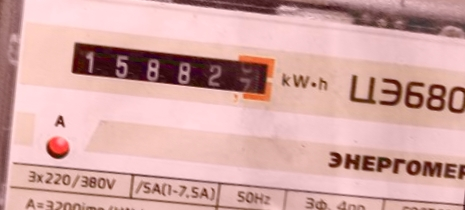1: (84, 47, 98, 75)
2: (207, 62, 226, 88)
5: (114, 52, 131, 79)
7: (237, 74, 254, 93)
8: (145, 56, 164, 82), (177, 59, 195, 86)
screen: (61, 29, 285, 111)
